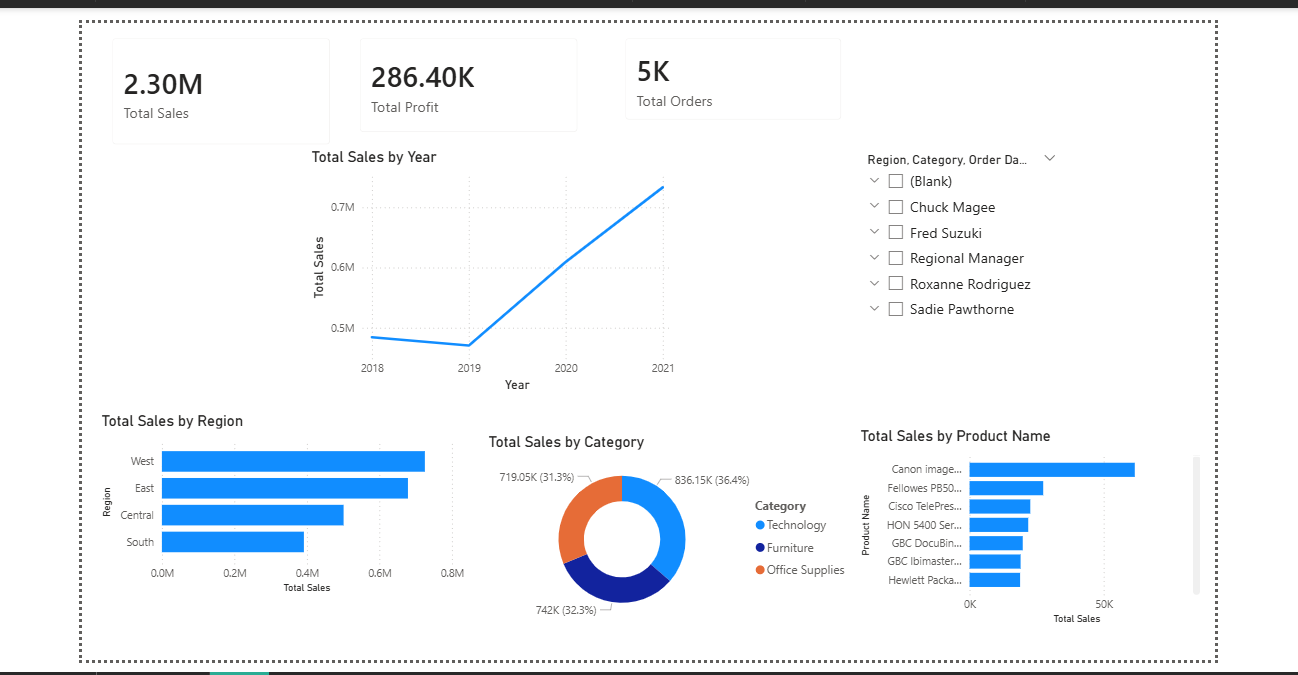

Layout of this report page (visuals, bound fields, positions):
{"tool":"powerbi","page":{"name":"Page 1","canvas":[1280,720],"ordinal":0},"visuals":[{"type":"cardVisual","fields":{"Data":["Region.Total Sales"]},"box":[16.4,0,280.3,154.1],"z":0},{"type":"cardVisual","fields":{"Data":["Region.Total Profit"]},"box":[296.7,0,280.3,141],"z":1000},{"type":"cardVisual","fields":{"Data":["Region.Total Orders"]},"box":[596.7,0,278.7,126.2],"z":2000},{"type":"lineChart","fields":{"Category":["Sales.Order Date.Variation.Date Hierarchy.Year","Sales.Order Date.Variation.Date Hierarchy.Quarter","Sales.Order Date.Variation.Date Hierarchy.Month","Sales.Order Date.Variation.Date Hierarchy.Day"],"Y":["Region.Total Sales"]},"box":[254.1,141,419.7,280.3],"z":3000},{"type":"clusteredBarChart","fields":{"Y":["Region.Total Sales"],"Category":["Sales.Region"]},"box":[16.4,439.3,419.7,209.8],"z":4000},{"type":"donutChart","fields":{"Category":["Sales.Category"],"Y":["Region.Total Sales"]},"box":[454.1,462.3,421.3,221.3],"z":4001},{"type":"clusteredBarChart","fields":{"Category":["Sales.Product Name"],"Y":["Region.Total Sales"]},"box":[875.4,455.7,393.4,227.9],"z":4002},{"type":"slicer","fields":{"Values":["Region.Region","Sales.Category","Sales.Order Date","Sales.Segment"]},"box":[875.4,141,237.7,267.2],"z":4003}]}

Visuals, with their boxes on the page's 1280x720 design canvas (x1, y1, x2, y2). These are canvas units, not pixel positions in the 1298x675 screenshot, which may show the page scaled, cropped or inside an application window:
cardVisual - Region.Total Sales: [left=16, top=0, right=297, bottom=154]
cardVisual - Region.Total Profit: [left=297, top=0, right=577, bottom=141]
cardVisual - Region.Total Orders: [left=597, top=0, right=875, bottom=126]
lineChart - Sales.Order Date.Variation.Date Hierarchy.Year x Sales.Order Date.Variation.Date Hierarchy.Quarter: [left=254, top=141, right=674, bottom=421]
clusteredBarChart - Region.Total Sales x Sales.Region: [left=16, top=439, right=436, bottom=649]
donutChart - Sales.Category x Region.Total Sales: [left=454, top=462, right=875, bottom=684]
clusteredBarChart - Sales.Product Name x Region.Total Sales: [left=875, top=456, right=1269, bottom=684]
slicer - Region.Region x Sales.Category: [left=875, top=141, right=1113, bottom=408]
